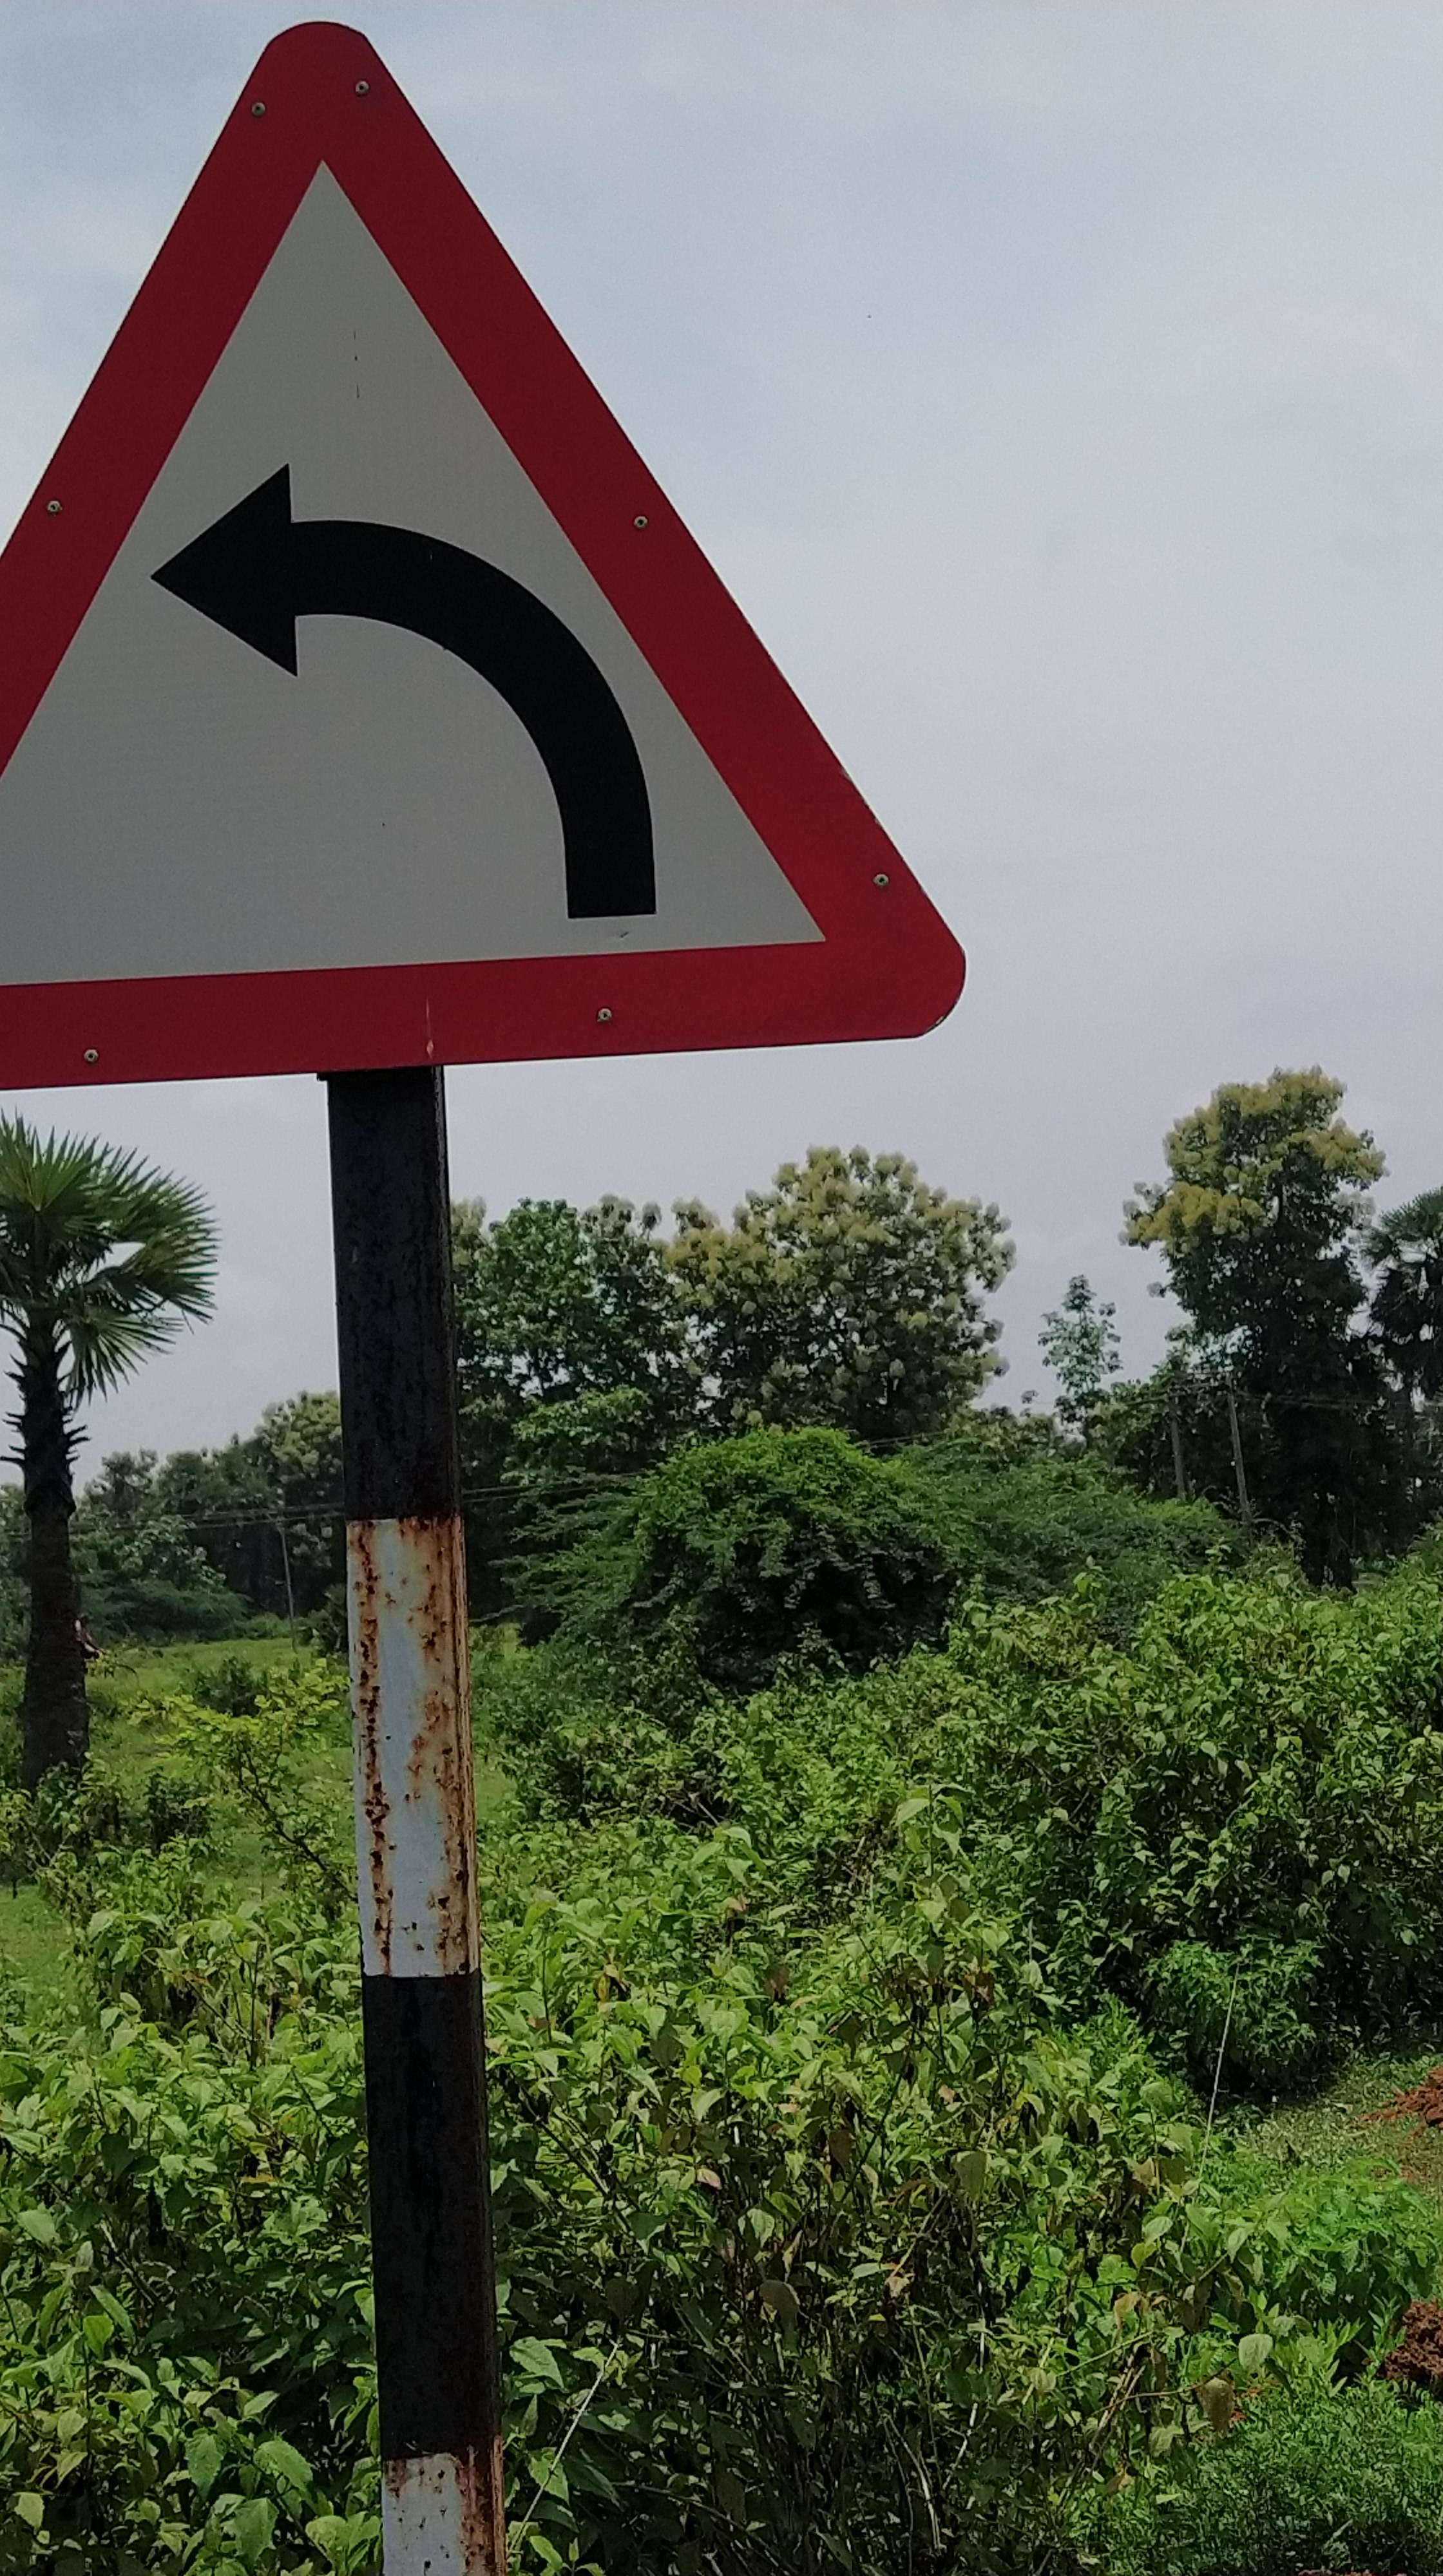Turn left: (11, 46, 1025, 1116)
